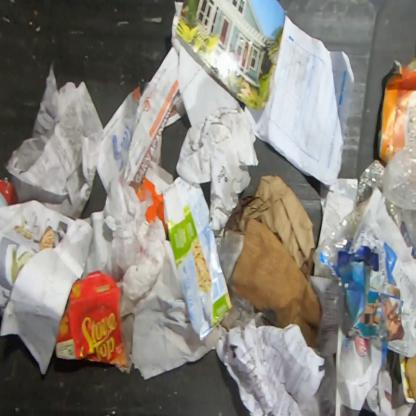cardboard: (230, 218, 323, 350), (320, 241, 404, 343), (53, 270, 128, 366), (377, 55, 415, 166), (406, 350, 415, 407), (0, 175, 16, 207)
rigid_plastic: (311, 155, 415, 278)
soft_plastic: (382, 147, 415, 212)
